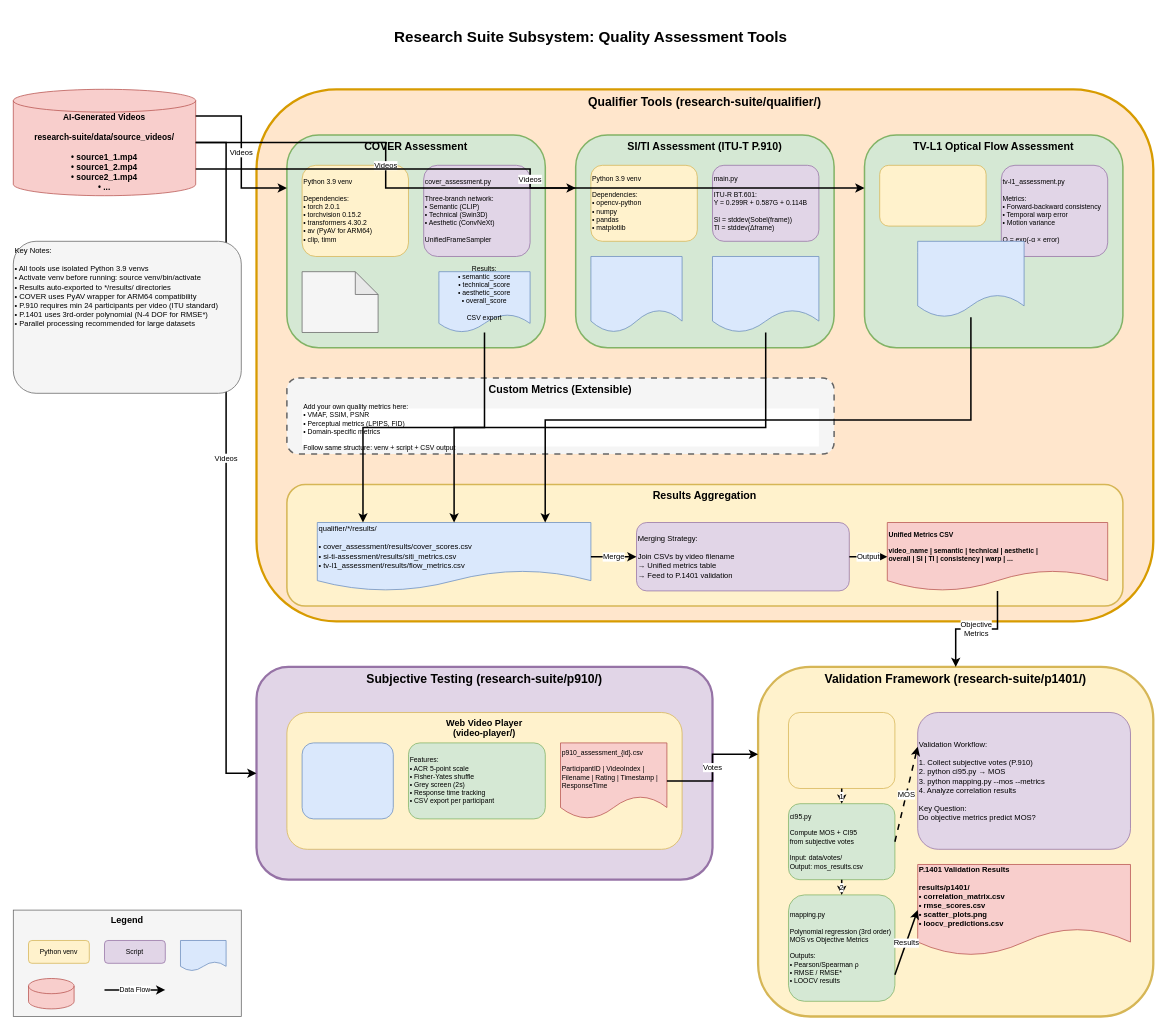
This 1167x1031 diagram has some shape labels left out. The centre of each missing label's shape, as x and y in pixels:
"Data/Results" goes at pixel 203 955.
"Files: • index.html • script.js • styles.css • videos/ (symlink)" goes at pixel 347 780.
"pretrained_weights/ COVER.pth 250MB (CVPR 2024)" goes at pixel 339 301.
"Python 3.9 venv Dependencies: • numpy • pandas • scipy • scikit-learn" goes at pixel 841 750.
"Python 3.9 venv Dependencies: • opencv-python • numpy • pandas" goes at pixel 932 195.
"Results CSV: • consistency_error • warp_error • motion_variance • quality_score" goes at pixel 970 279.
"Results CSV: • mean_SI • mean_TI • std_SI • std_TI • max/min values" goes at pixel 765 294.
"Storage" goes at pixel 51 993.
"Visualization: • SI/TI scatter • Temporal plots • Heatmaps PNG export" goes at pixel 636 294.
